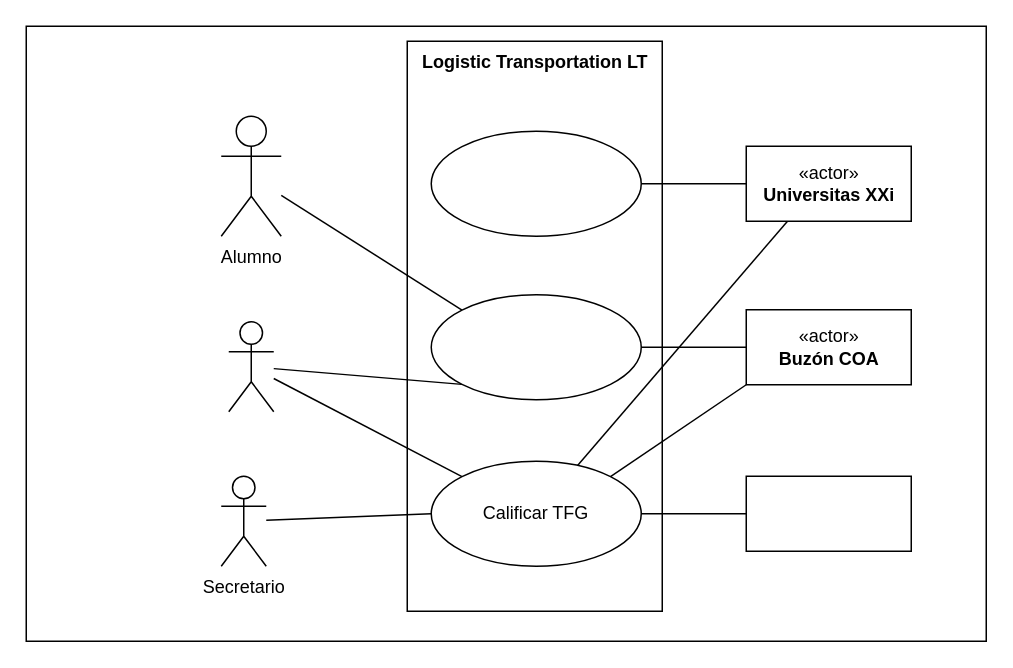
Some shapes in this 1013 by 668 pixel diagram are drawn without their labels. Here are the shapes that lost their labels. From the top down, the centre of each, then its label:
At [535,183]: "Entregar TFG".
At [250,366]: "PAS".
At [535,346]: "Solicitar TFG".
At [828,513]: "«actor» Buzón Biblioteca".
